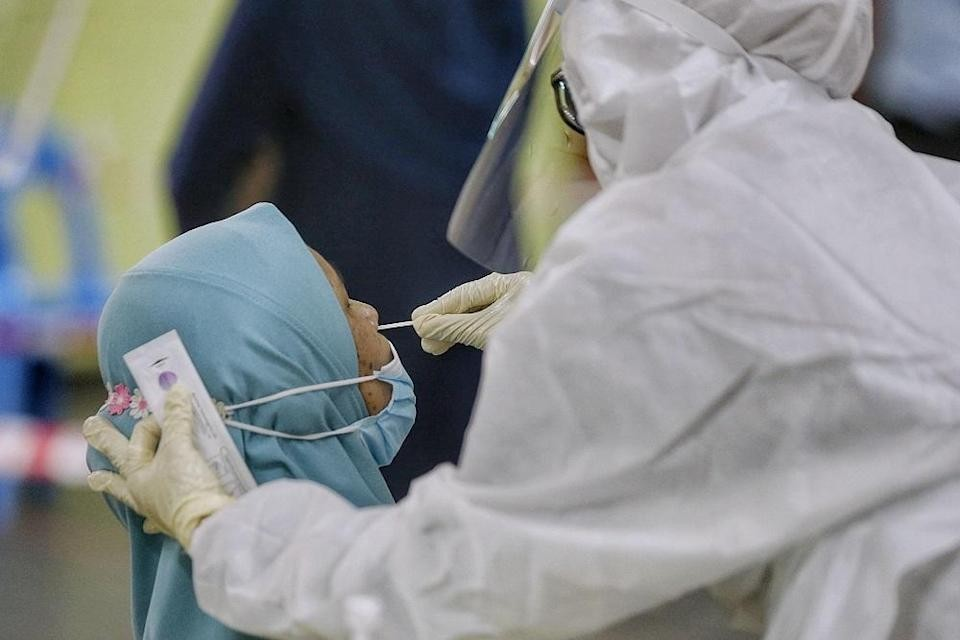Coverall: (254, 6, 960, 640)
Gloves: (70, 405, 244, 557), (410, 264, 548, 363)
mask_weared_incorrect: (303, 238, 426, 485)
